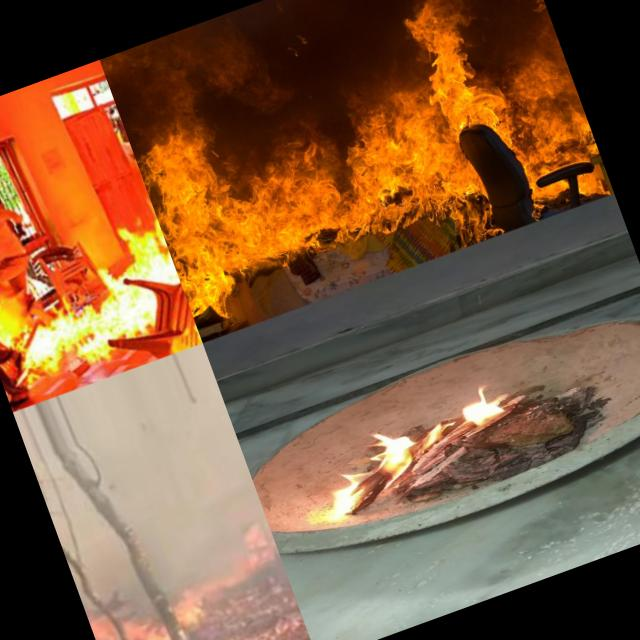fire: (99, 0, 614, 343), (318, 377, 530, 514), (0, 272, 153, 393), (104, 192, 180, 298), (226, 502, 282, 574), (170, 577, 229, 639), (157, 294, 203, 354), (119, 604, 184, 640), (89, 614, 148, 640)
